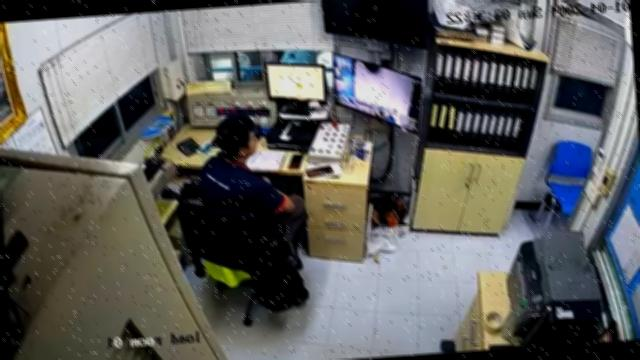Head: (208, 112, 260, 168)
People: (199, 116, 307, 246)
Phone: (302, 163, 335, 178), (284, 152, 307, 170)
